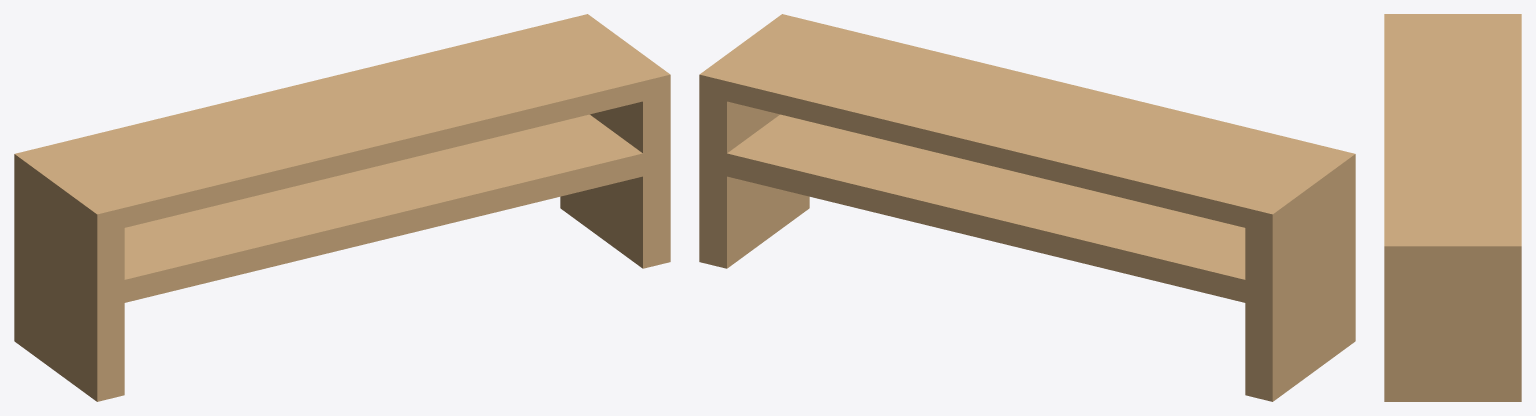
File: TV_stand.fbx
The picture shows the model from 3 angles, left to right: view 1: azimuth 30°, elevation 25°; view 2: azimuth 150°, elevation 25°; view 3: azimuth 270°, elevation 25°; orthographic projection. The views are drawn at different scales.
Visible parts, largest first — view 1: TV_stand; view 2: TV_stand; view 3: TV_stand.
Boxes of the visible parts, <box> form: TV_stand: <box>14,14,670,401</box>; TV_stand: <box>699,14,1355,401</box>; TV_stand: <box>1384,14,1521,401</box>.
Size of the model in its own units: 160 by 50 by 40.
